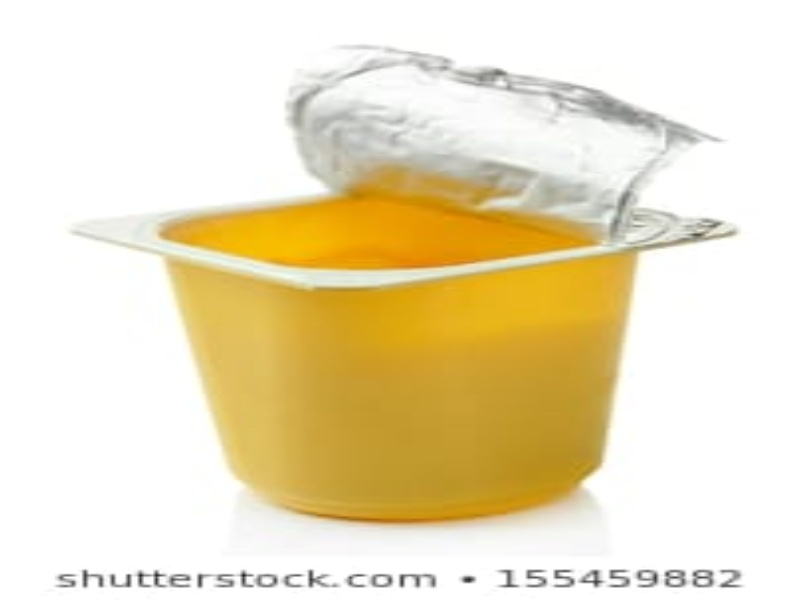yogurt-cup: (60, 185, 746, 526)
